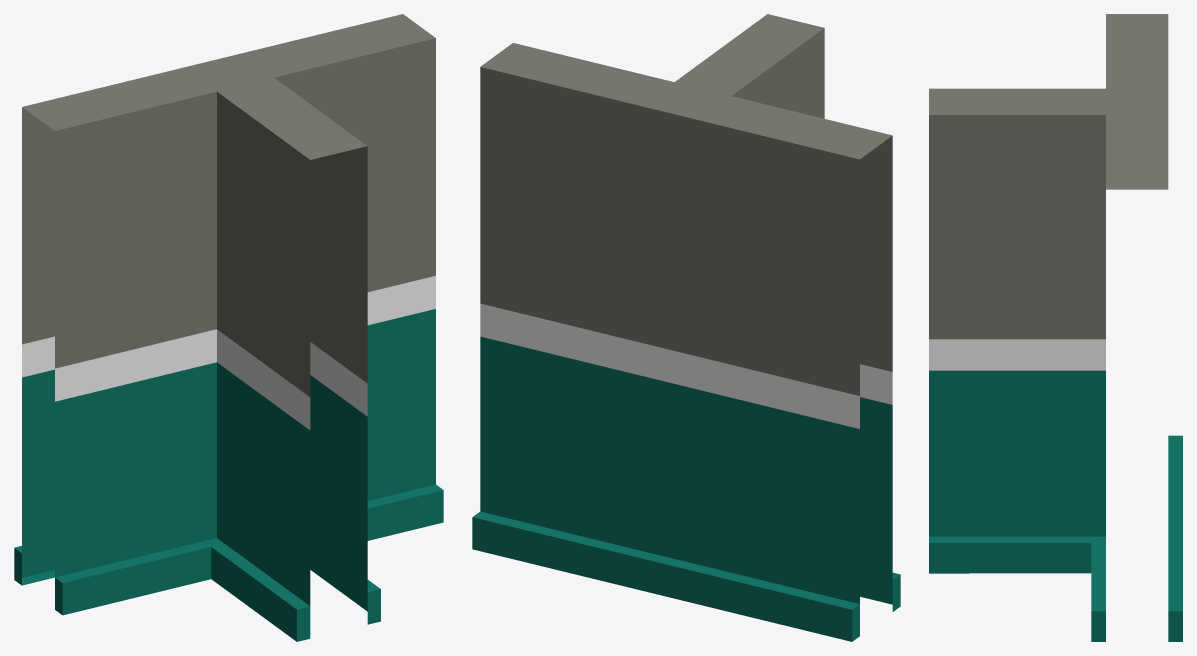
Rendered from IndoorWallMid.fbx.
3 renders of one model, left to right at view 1: azimuth 30°, elevation 25°; view 2: azimuth 150°, elevation 25°; view 3: azimuth 270°, elevation 25°, orthographic. The views are drawn at different scales.
Visible parts, largest first — view 1: IndoorMidWall_Inner; view 2: IndoorMidWall_Inner; view 3: IndoorMidWall_Inner.
Boxes of the visible parts, box(x1,y1,x2,y2) form: IndoorMidWall_Inner: box(14, 14, 443, 641); IndoorMidWall_Inner: box(472, 14, 900, 641); IndoorMidWall_Inner: box(929, 14, 1182, 641).
Bounding box in the file's own units: 2 × 1.22 × 2.4.
Materials: 1 (1 with a texture image).
